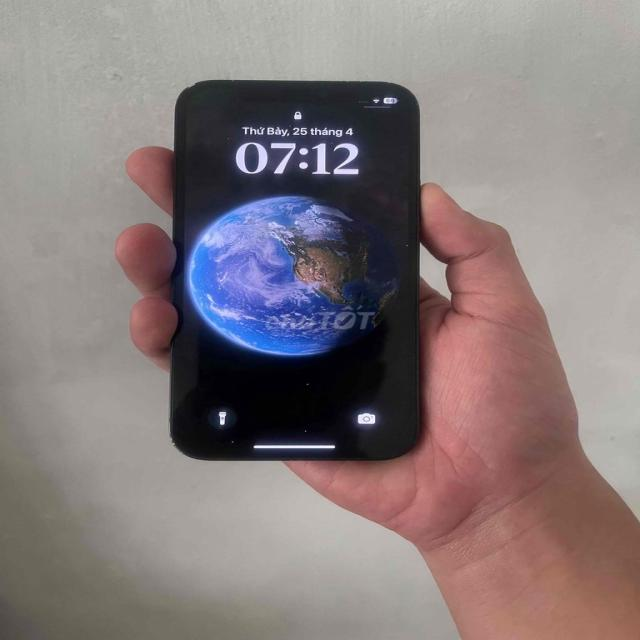gen_12_13: (160, 76, 452, 466)
